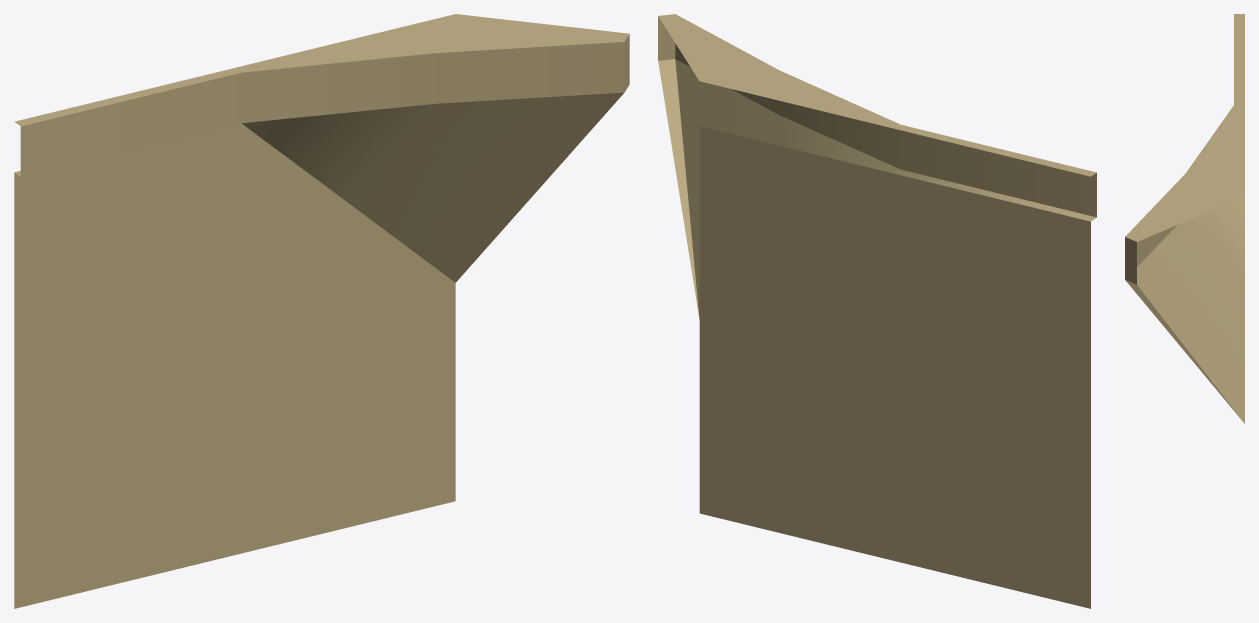
The model's file is Roof_1_1.fbx.
3 renders of one model, left to right at view 1: azimuth 30°, elevation 25°; view 2: azimuth 150°, elevation 25°; view 3: azimuth 270°, elevation 25°, orthographic. The views are drawn at different scales.
Parts seen in each view (by area): view 1: Roof_1_1; view 2: Roof_1_1; view 3: Roof_1_1.
Part boxes in pixels (x1,y1,x2,y2): Roof_1_1: (14, 14, 629, 608); Roof_1_1: (658, 14, 1096, 608); Roof_1_1: (1125, 14, 1244, 423).
Size of the model in its own units: 5 by 4.22 by 1.11.
